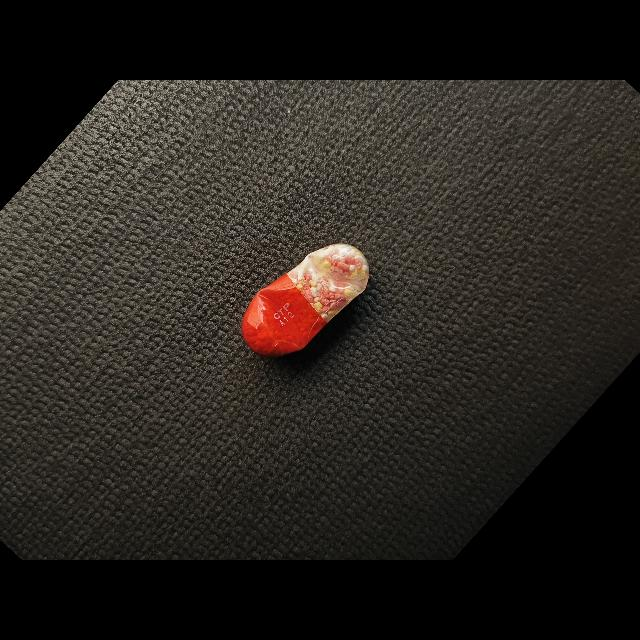Defective Capsule: (242, 243, 369, 357)
